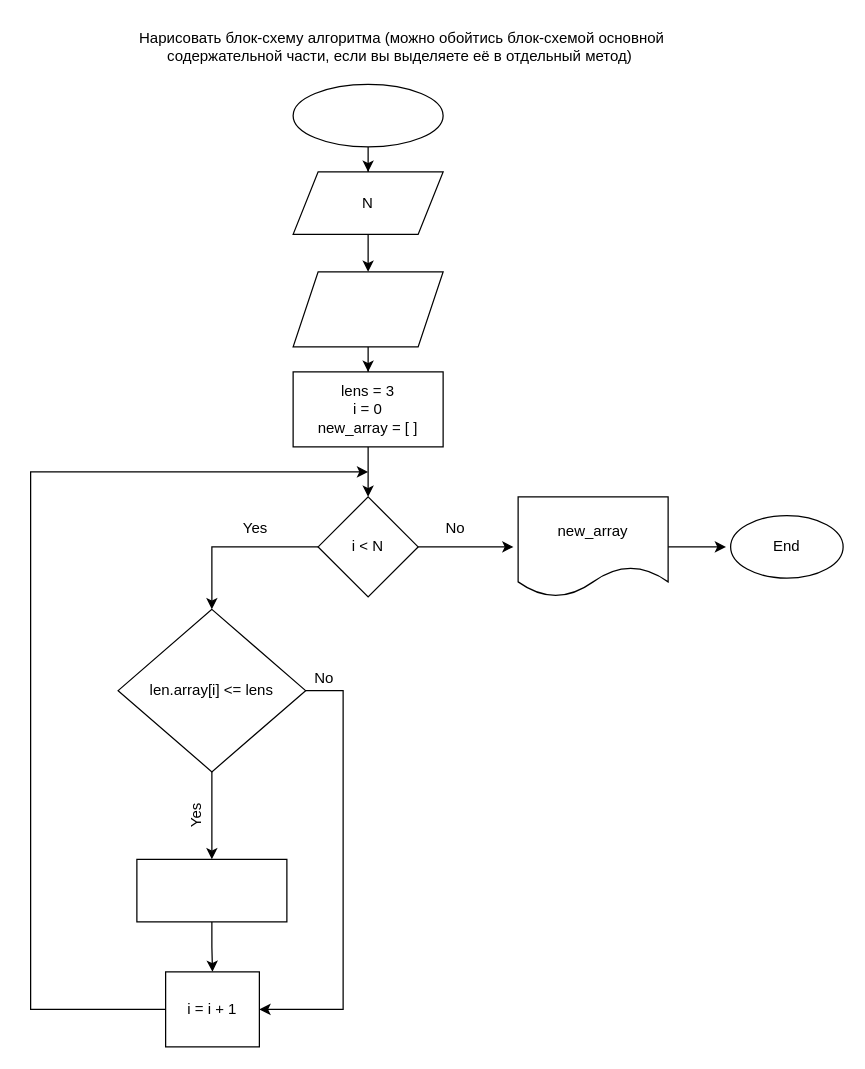
This 865x1069 diagram has some shape labels left out. The box of each missing label's shape, as (x1, y1, x2, y2) in pixels:
array: (292, 271, 443, 347)
new_array = new_array + array[i]: (136, 858, 287, 922)
start: (292, 83, 443, 147)
